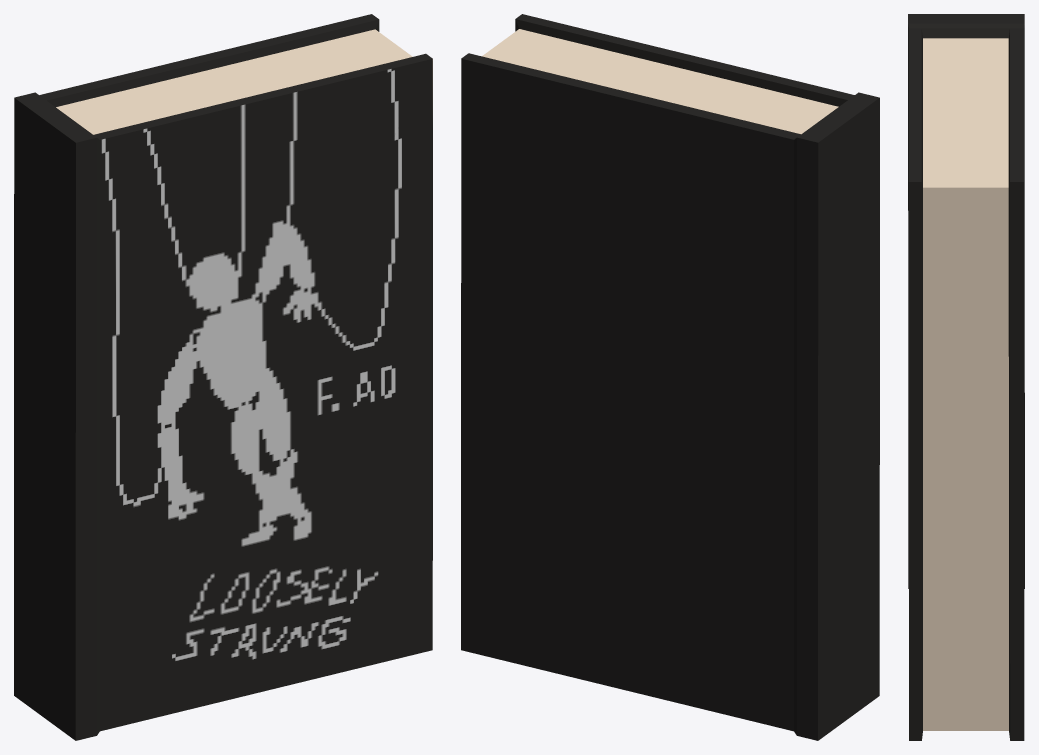
Rendered from looselystrung.fbx.
The picture shows the model from 3 angles, left to right: view 1: azimuth 30°, elevation 25°; view 2: azimuth 150°, elevation 25°; view 3: azimuth 270°, elevation 25°; orthographic projection. The views are drawn at different scales.
Parts seen in each view (by area): view 1: Cube.103; view 2: Cube.103; view 3: Cube.103.
Boxes of the visible parts, x1,y1,x2,y2 form: Cube.103: (14, 14, 432, 740); Cube.103: (461, 14, 879, 740); Cube.103: (908, 14, 1024, 740).
Size of the model in its own units: 22.87 by 36.59 by 6.85.
